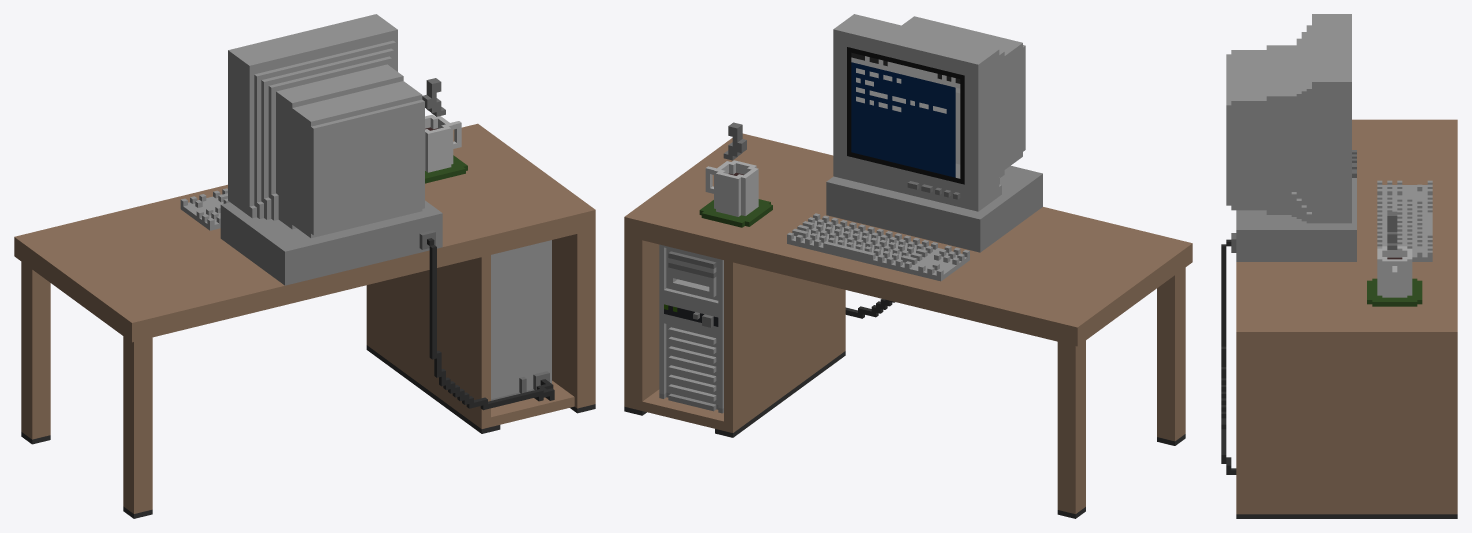
Rendered from Desk.gltf.
3 views of the same model, side by side, from view 1: azimuth 30°, elevation 25°; view 2: azimuth 150°, elevation 25°; view 3: azimuth 270°, elevation 25° (orthographic). The views are drawn at different scales.
Visible parts, largest first — view 1: desk; view 2: desk; view 3: desk.
Part boxes in pixels (<box>): desk: <box>14,14,595,518</box>; desk: <box>624,14,1192,518</box>; desk: <box>1221,14,1457,518</box>.
Bounding box in the file's own units: 10 × 8 × 4.7.
1 material, 1 textured.
